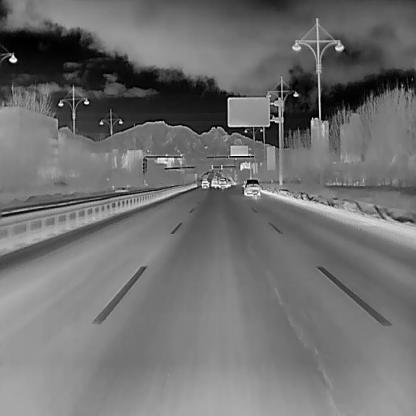car: (242, 178, 260, 196), (201, 177, 209, 189), (210, 177, 218, 188), (219, 177, 226, 188), (225, 177, 231, 188)
